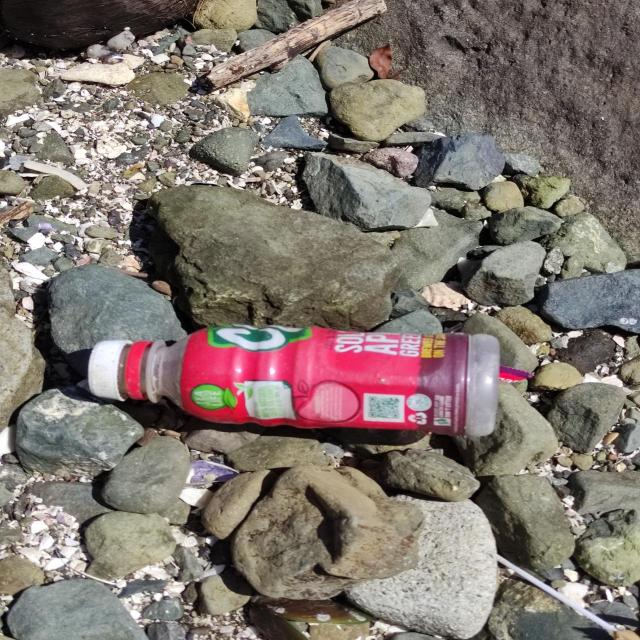plastic_waste: (88, 322, 500, 435), (496, 551, 620, 635)
